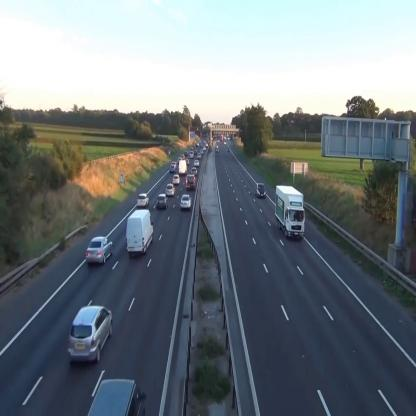car: (69, 305, 113, 362), (86, 236, 113, 265), (137, 194, 150, 208), (180, 194, 192, 208), (157, 194, 168, 209), (256, 183, 266, 198), (166, 184, 175, 196), (172, 174, 180, 184), (191, 168, 197, 175), (170, 164, 175, 172), (194, 158, 199, 166), (190, 151, 193, 158)
lorry: (275, 186, 305, 239), (126, 209, 153, 257), (186, 174, 196, 190), (179, 160, 187, 174)
